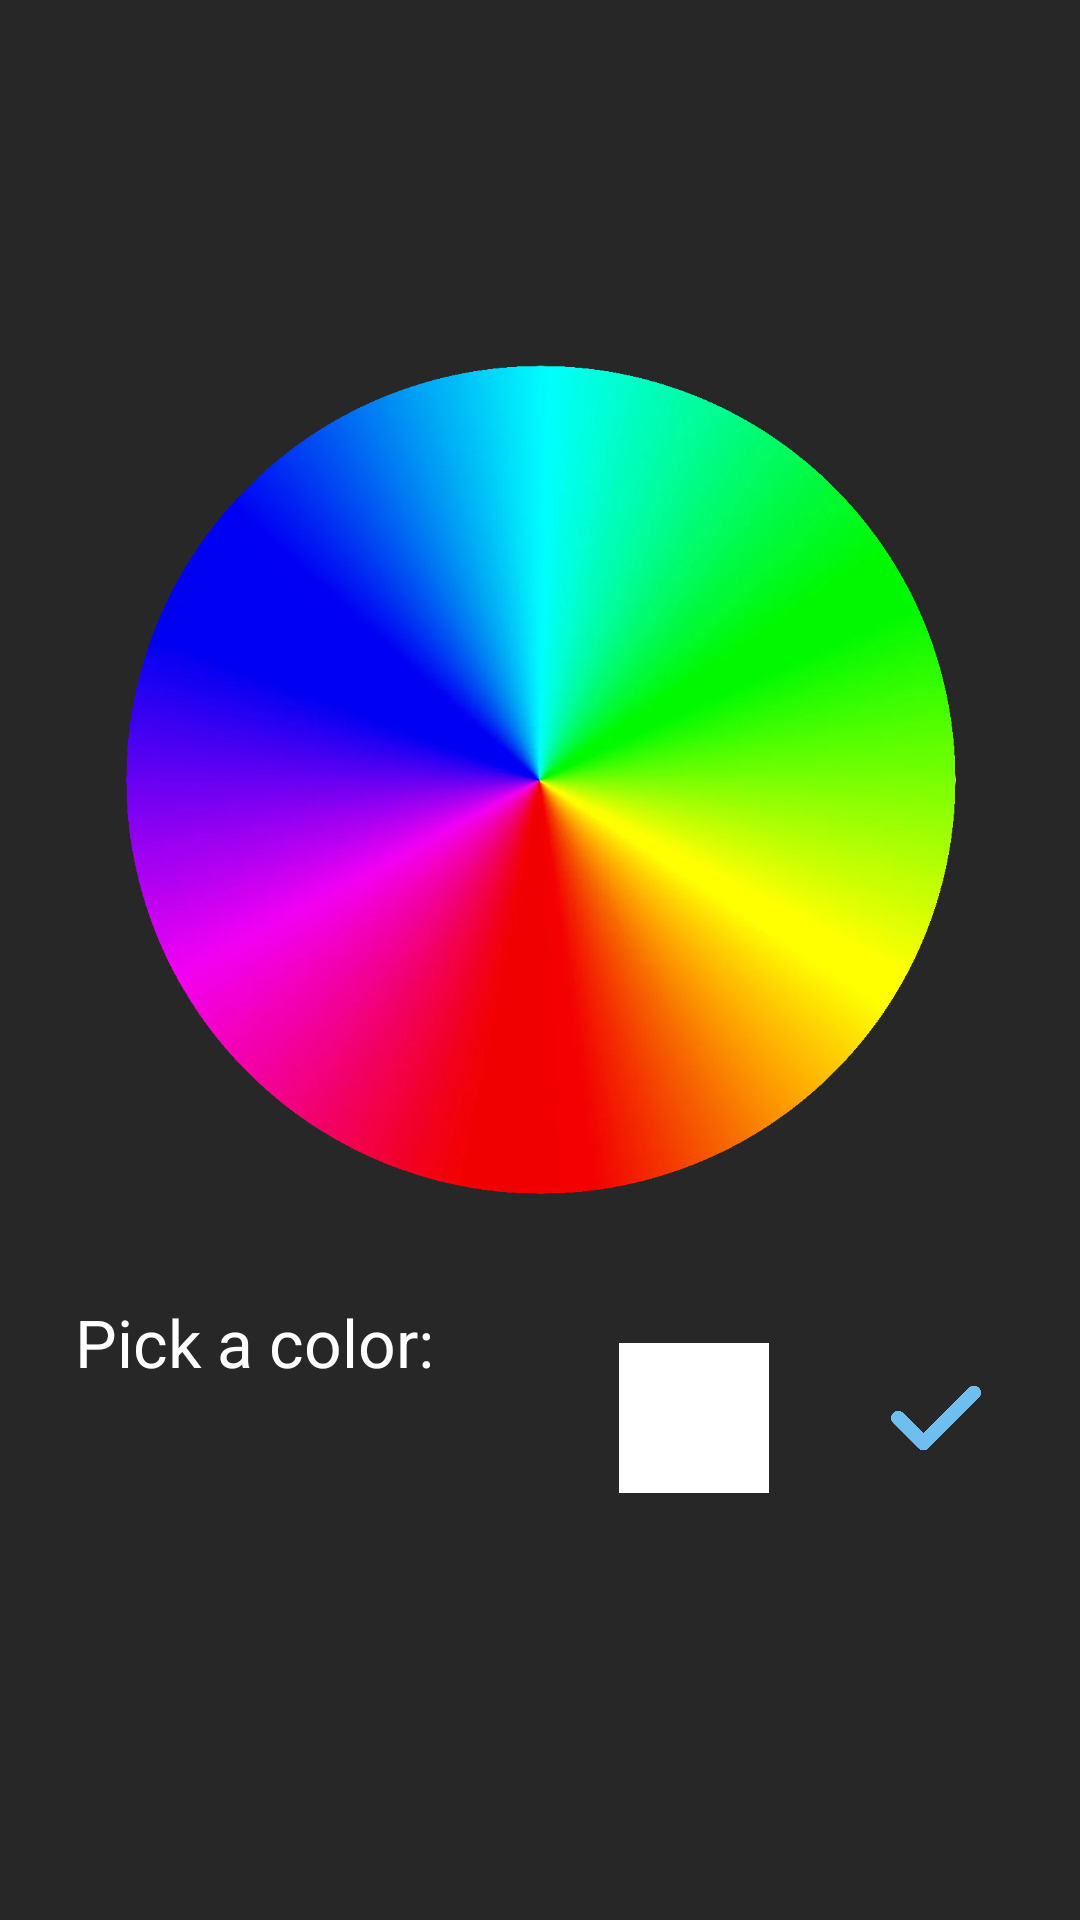

Where to tap for icons on this 1080px×1920px app screen, as (x=x, y=y):
flaticon check: (x=936, y=1418)
